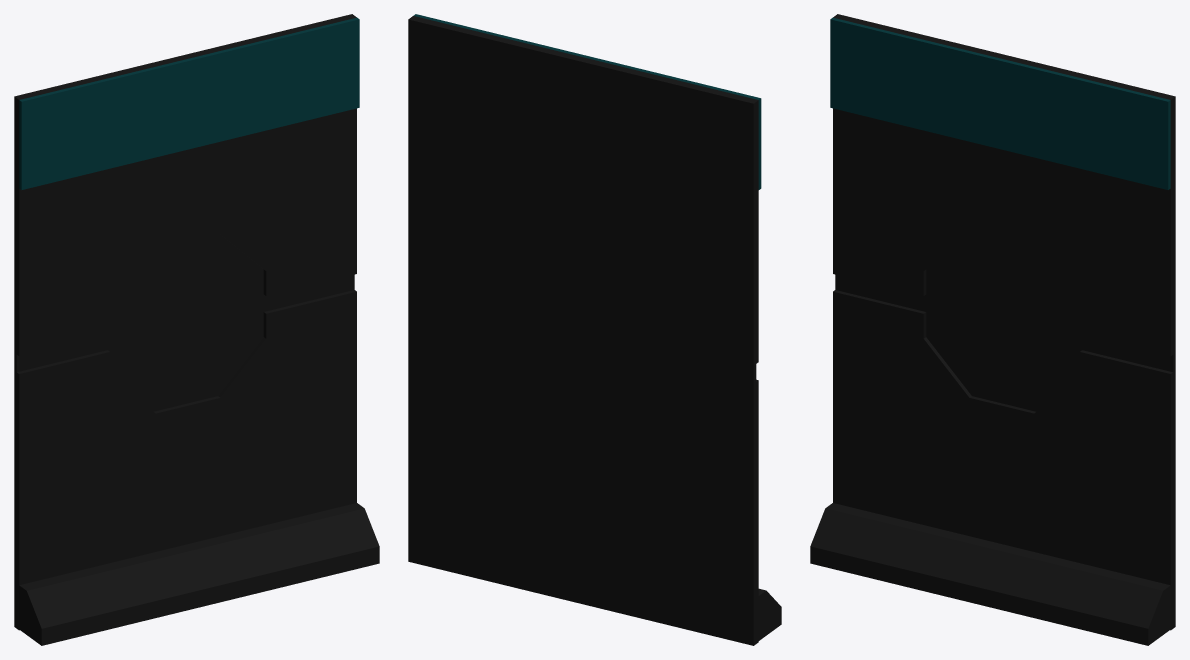
The model's file is Wall1.obj.
3 renders of one model, left to right at view 1: azimuth 30°, elevation 25°; view 2: azimuth 150°, elevation 25°; view 3: azimuth 330°, elevation 25°, orthographic. The views are drawn at different scales.
Visible parts, largest first — view 1: Wall, Wall_Panel, Triangle_Connecter; view 2: Wall, Wall_Panel, Triangle_Connecter; view 3: Wall, Wall_Panel, Triangle_Connecter.
Part boxes in pixels (left/top/right/bottom): Wall: left=14, top=14, right=356, bottom=630; Wall_Panel: left=19, top=17, right=359, bottom=189; Triangle_Connecter: left=19, top=503, right=379, bottom=645; Wall: left=408, top=16, right=758, bottom=645; Wall_Panel: left=413, top=14, right=761, bottom=189; Triangle_Connecter: left=756, top=588, right=781, bottom=642; Wall: left=833, top=14, right=1175, bottom=630; Wall_Panel: left=830, top=17, right=1170, bottom=189; Triangle_Connecter: left=810, top=503, right=1170, bottom=645.
Bounding box in the file's own units: 4 × 6 × 0.5613.
